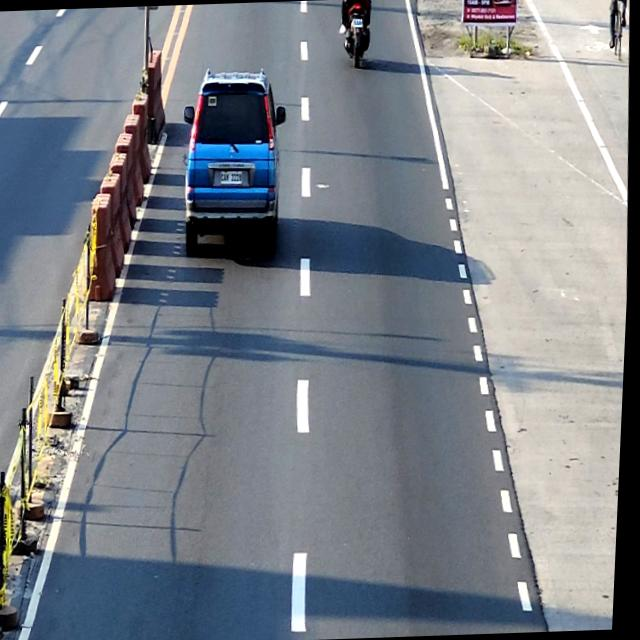Car: (177, 64, 293, 258)
License-Plate: (222, 170, 244, 184), (352, 18, 363, 27)
Motorcycle: (341, 0, 372, 69)
